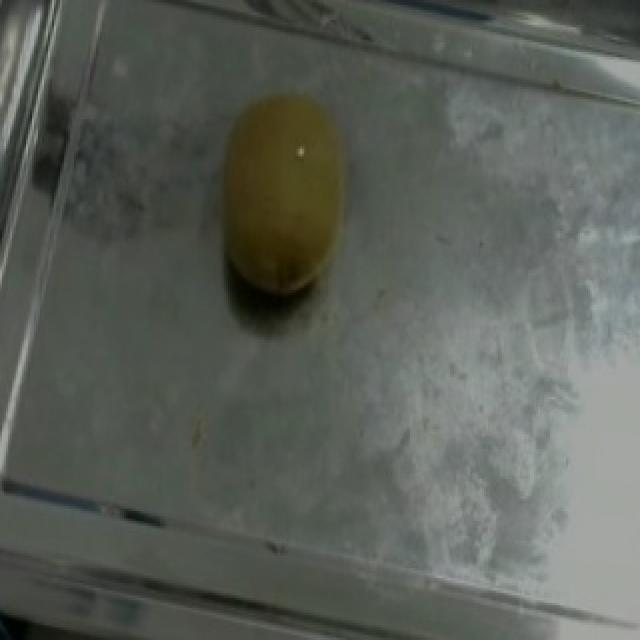Fruit: (188, 69, 384, 330)
